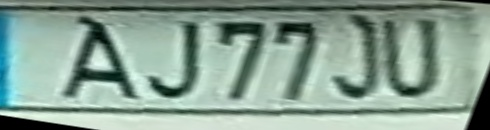7: (214, 21, 271, 103), (272, 21, 324, 104)
A: (55, 19, 145, 102)
J: (142, 21, 203, 101), (326, 20, 383, 103)
U: (380, 18, 446, 100)
